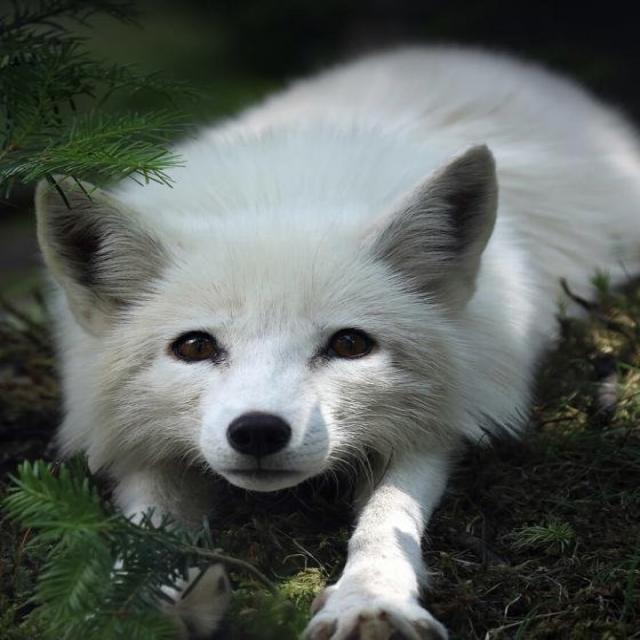fox: (37, 46, 640, 639)
